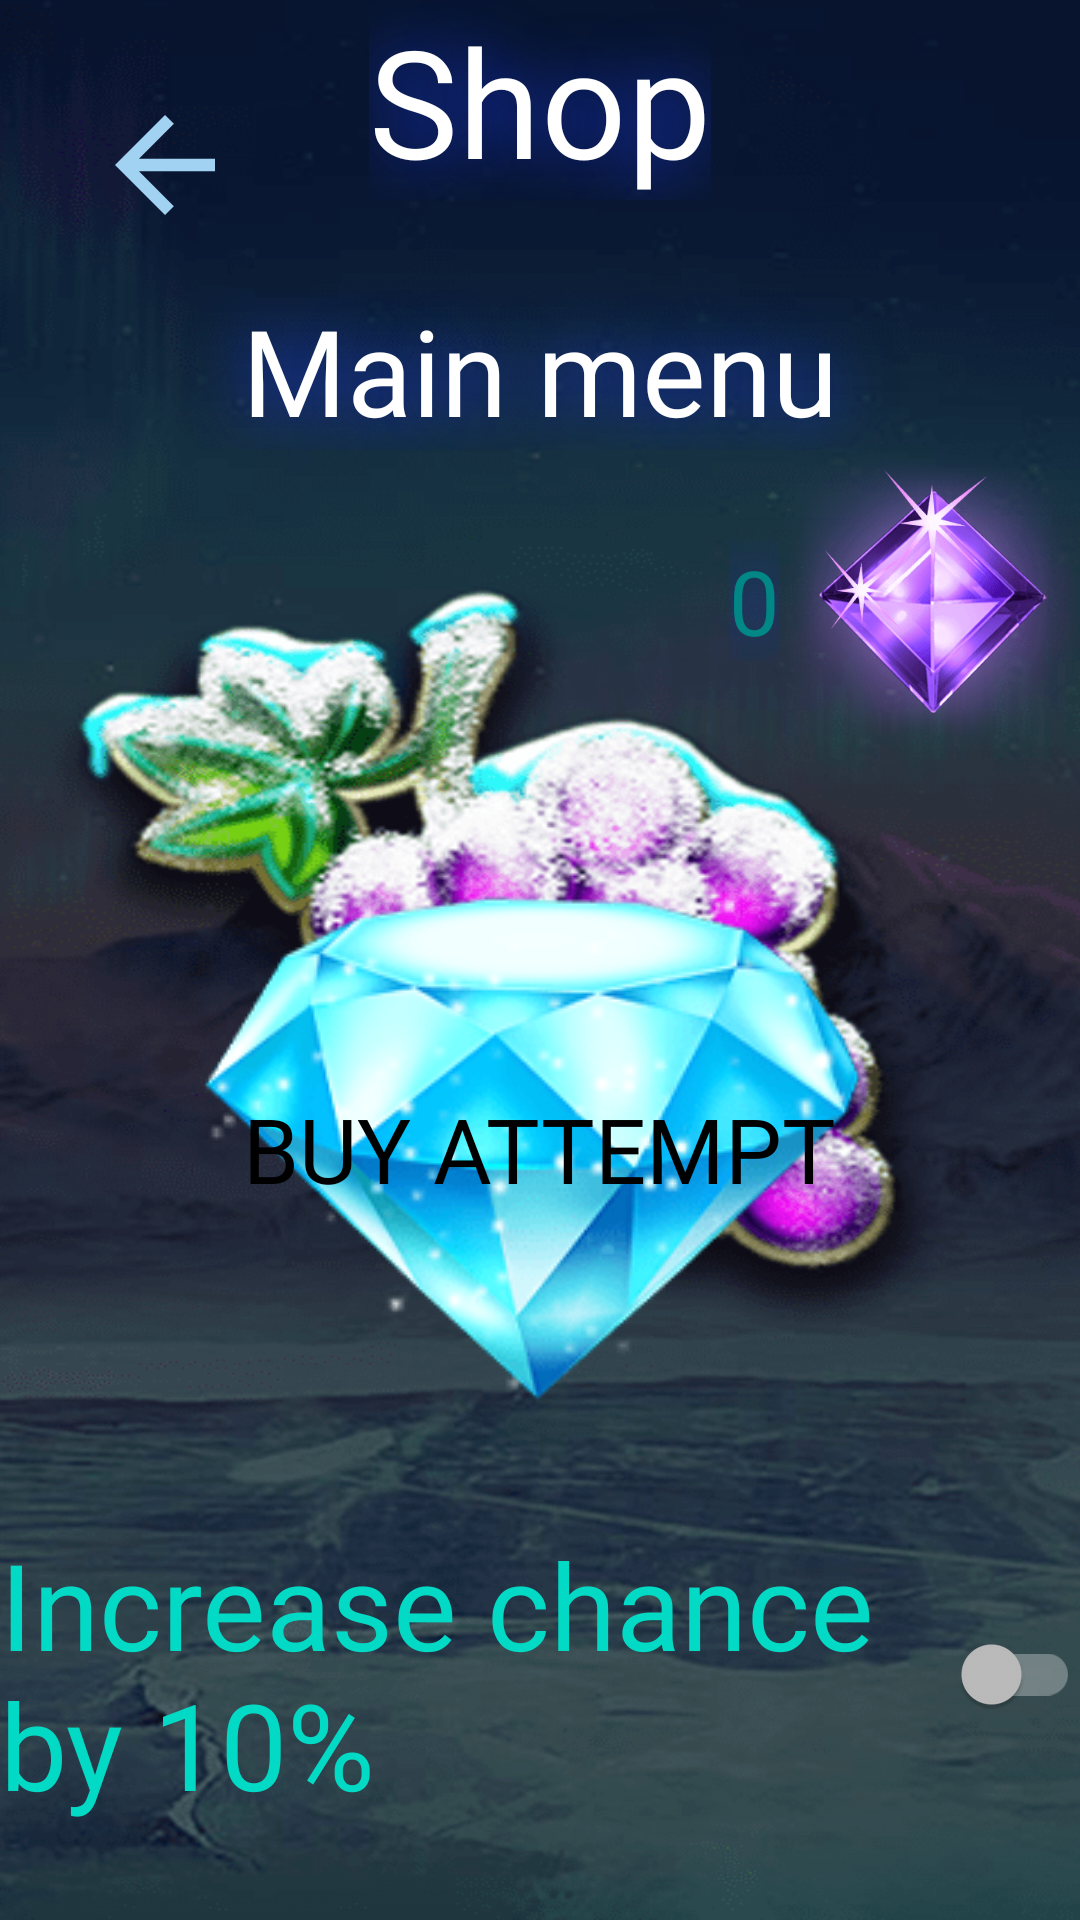

Locate icon controls on the screen. Image size 1080px×1920px, boxes as (x1, y1, x2, y2).
Back: (115, 115, 215, 215)
